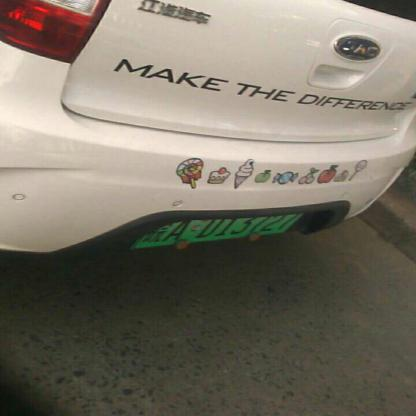lp: (132, 210, 304, 250)
